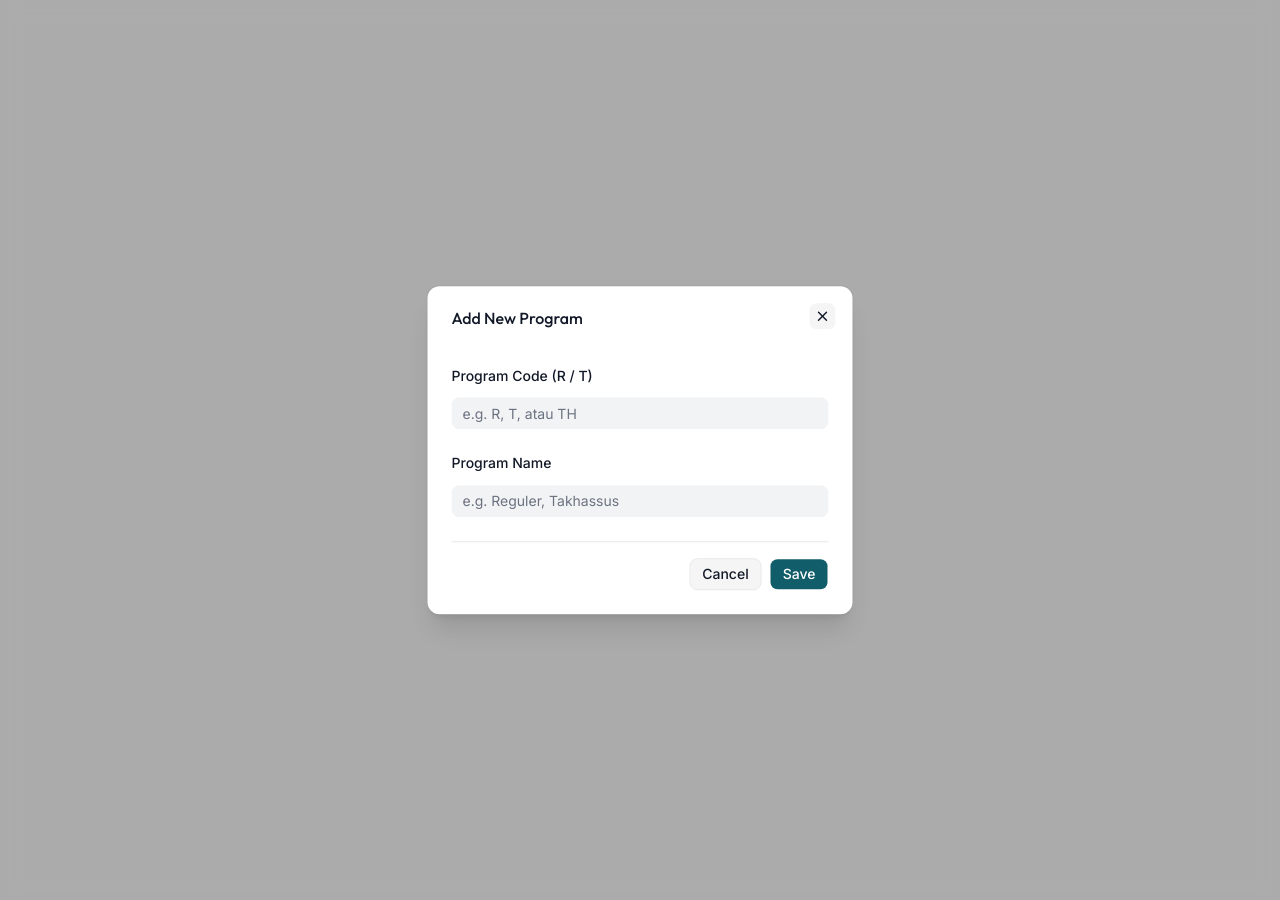
Test: ProgramFormDialog Component › should display validation error when submitting empty form
Click the button "Save": (799, 574) [770,558,828,590]
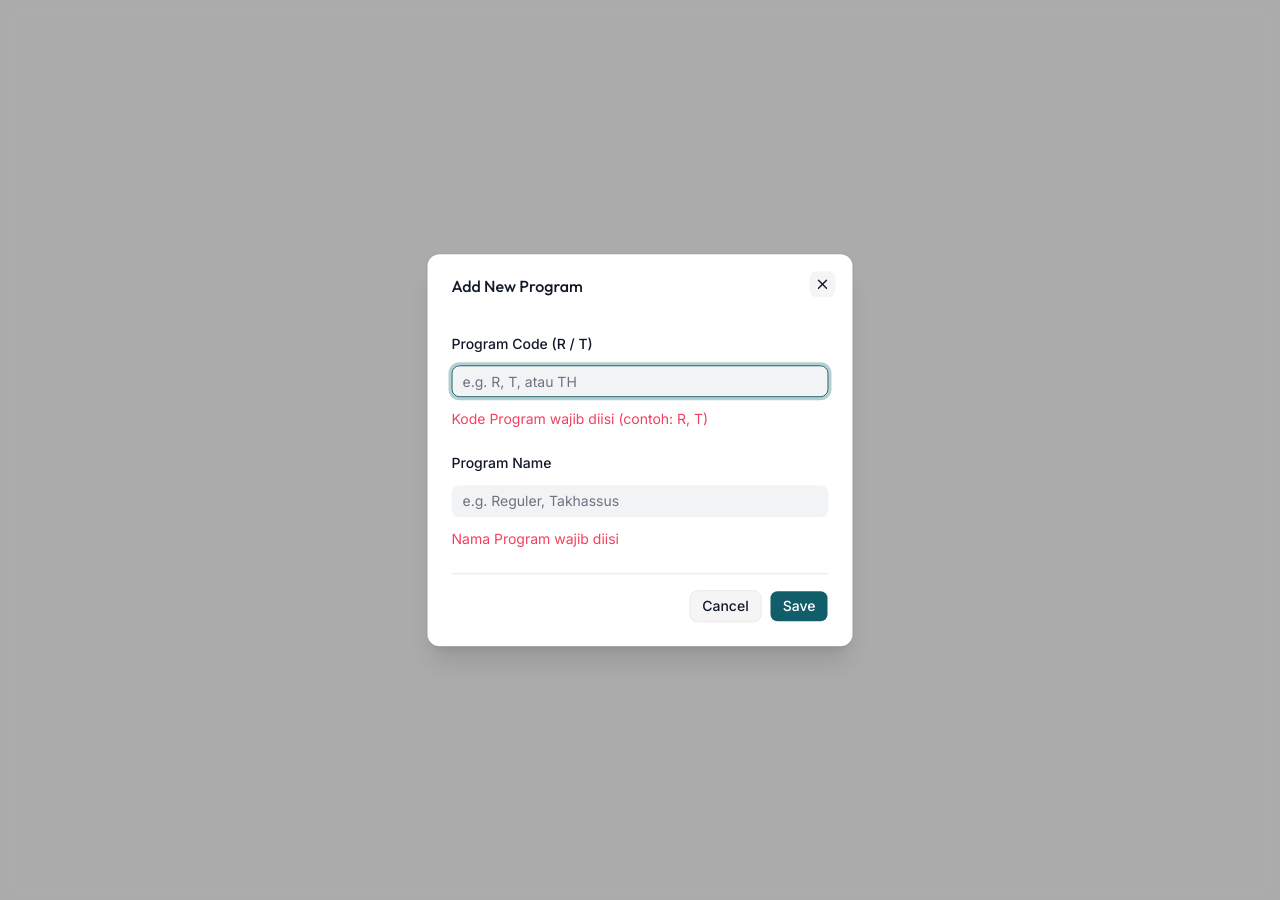
Result: the text "Kode Program wajib diisi (contoh: R, T)" is shown at [452,410,708,428]
